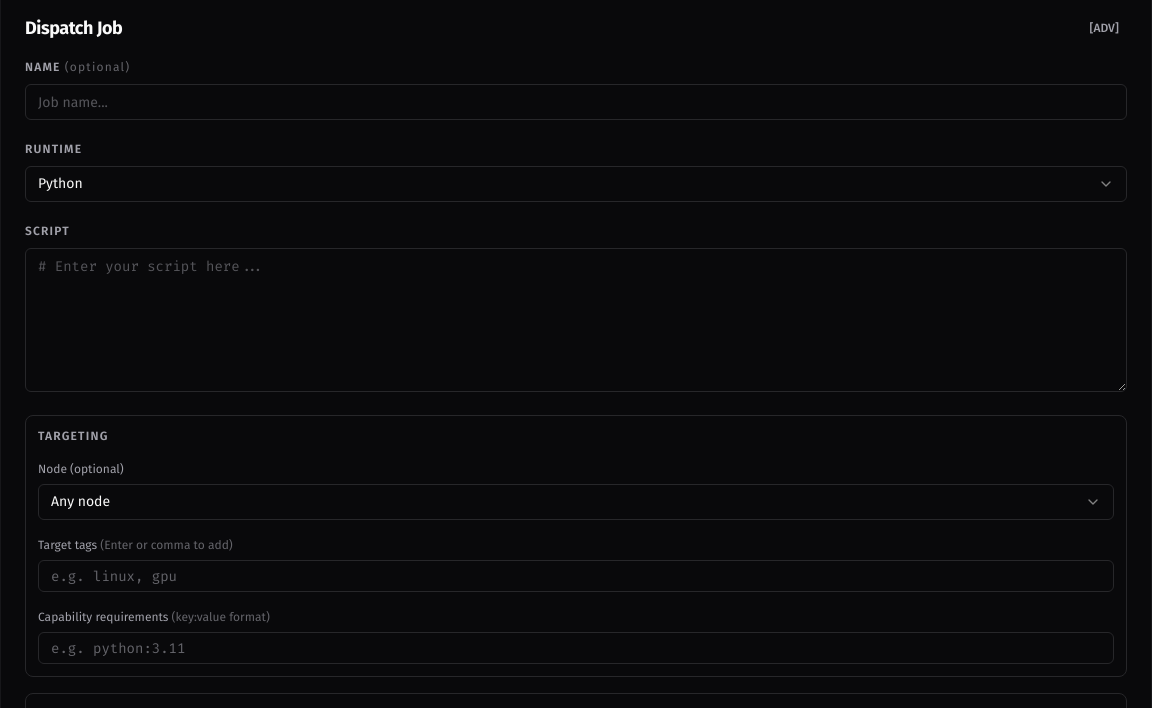
Test case: GuidedDispatchCard › shows amber warning and clears signature fields when script content changes after signature is entered
Set initial script content
Type "print(\"v1\")" into the text box named "script content" at (576, 320), box [25,248,1127,392]
(page scrolled)
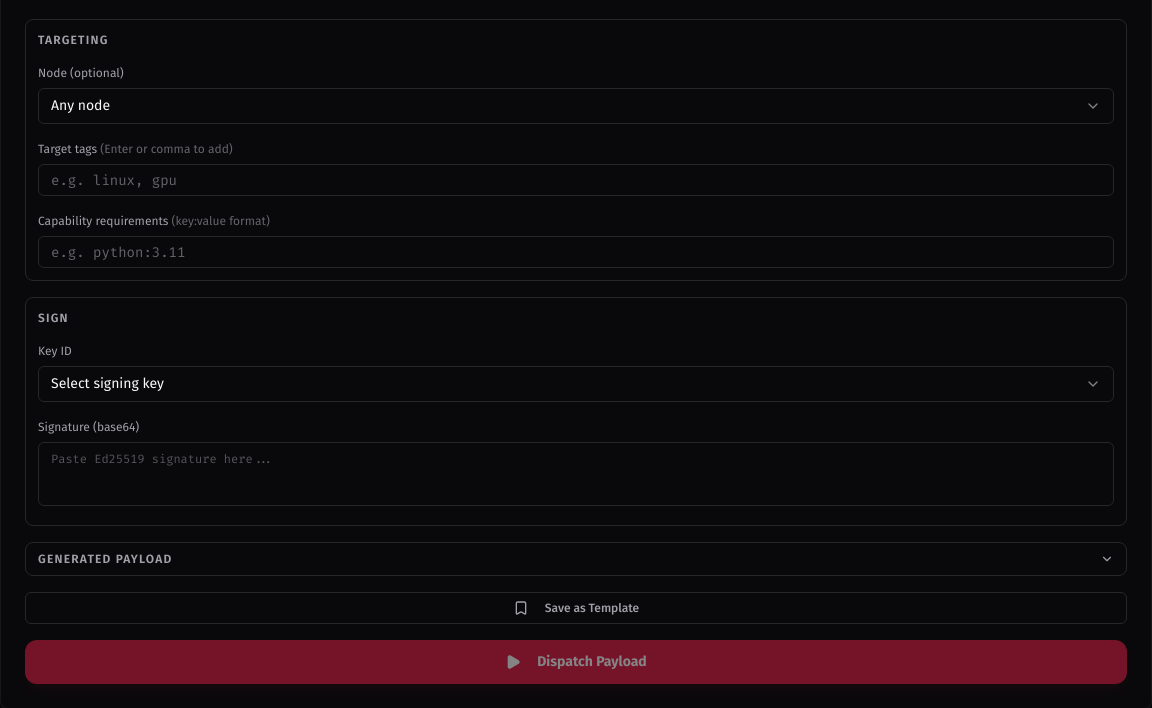
Enter a signature value
Type "my-sig-base64" into the text box labelled "Signature (base64)" at (576, 474), box [38,442,1114,506]
(page scrolled)
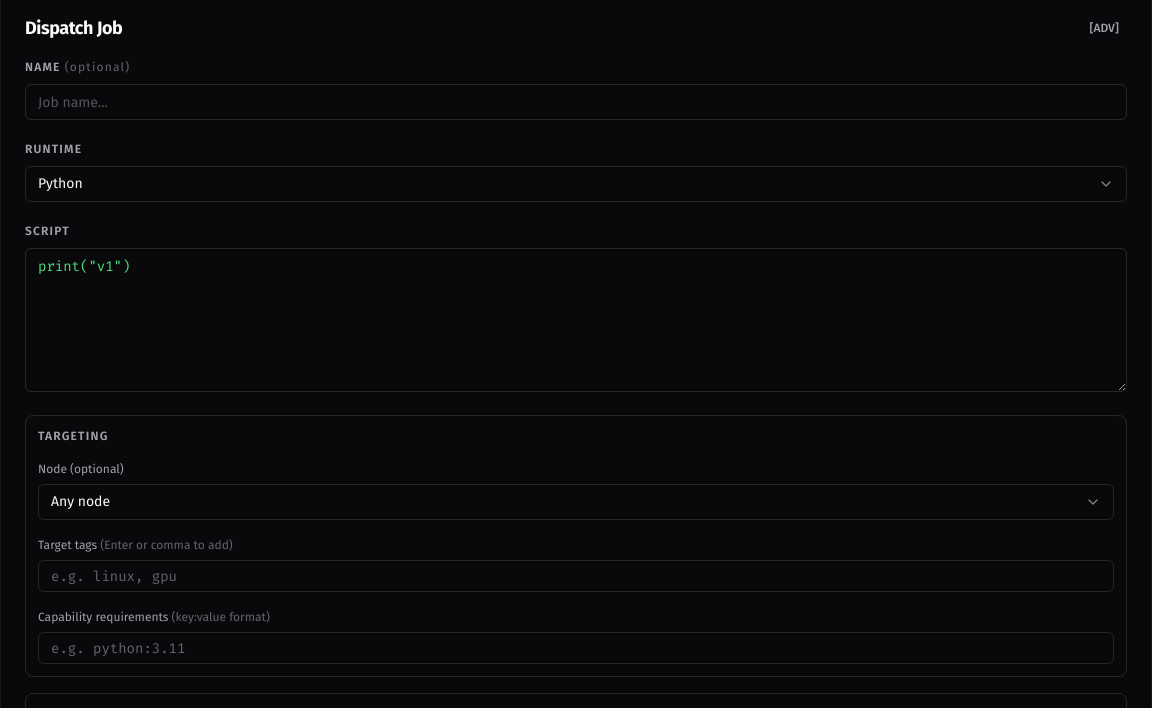
Now change the script — this should trigger amber warning
Replace the text in the text box named "script content" with "print(\"v2\")" at (576, 320), box [25,248,1127,392]
(page scrolled)
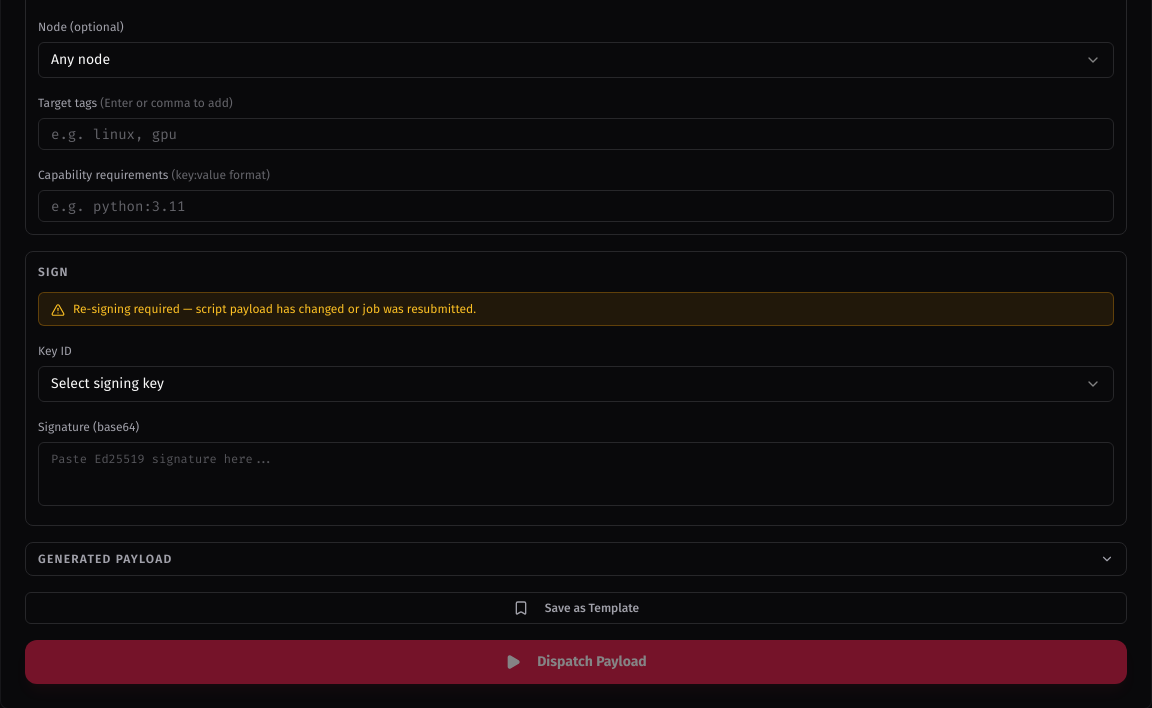
Expected: the text "Re-signing required" is shown, [73,302,476,316]
Expected: the text box labelled "Signature (base64)" is empty, [38,442,1114,506]
